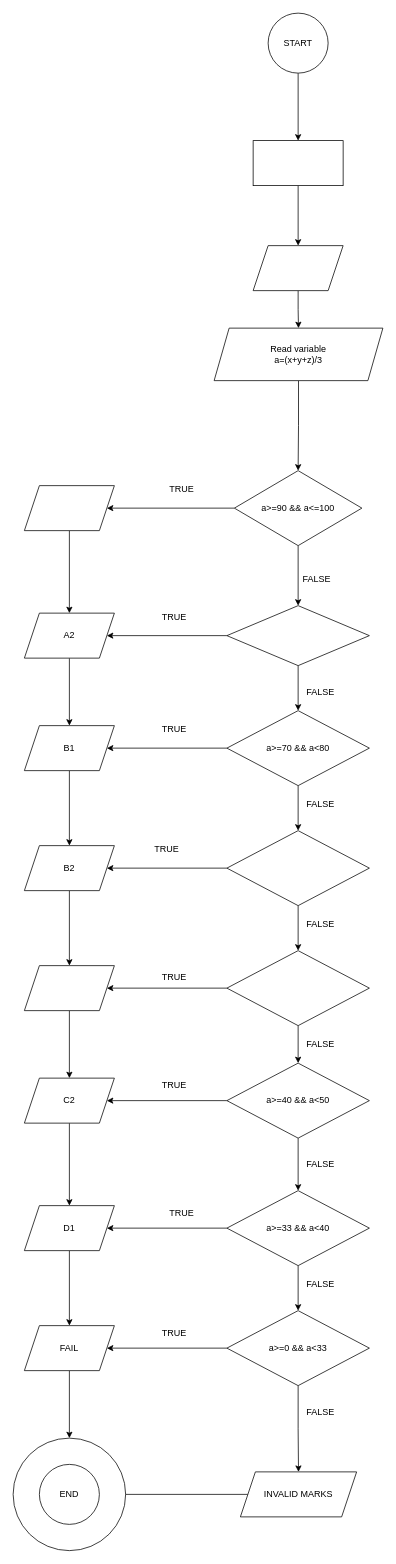
Image size: 396x1564. Some labels were removed from this diagram. The shapes that lost their labels are listed below. From the top down, each one's centre as x and y in pixels, then its label:
At [297,163]: "INT x,y,z and a".
At [297,268]: "Read variable x, y and z".
At [69,508]: "A1".
At [297,635]: "a>=80 && a<90".
At [297,868]: "a>=60 && a<70".
At [69,988]: "C1".
At [297,988]: "a>=50 && a<60".
